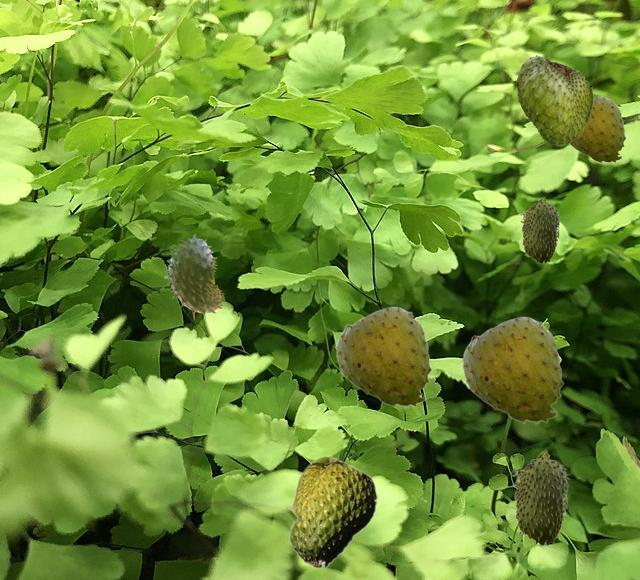guyabano: (460, 316, 563, 424), (287, 455, 377, 569), (334, 306, 431, 408), (516, 54, 592, 144), (512, 449, 569, 545), (164, 234, 224, 319), (568, 96, 625, 163), (520, 196, 560, 263)
